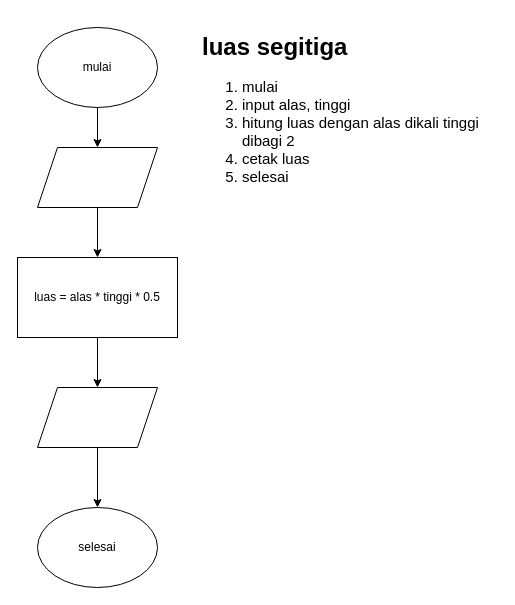
The diagram is 515 pixels wide and 605 high, and some of its shapes have lost their labels. Here are the shapes that lost their labels. From the top down, the centre of each, then its label:
At point (97, 177): "input alas input tinggi".
At point (97, 417): "cetak luas".
